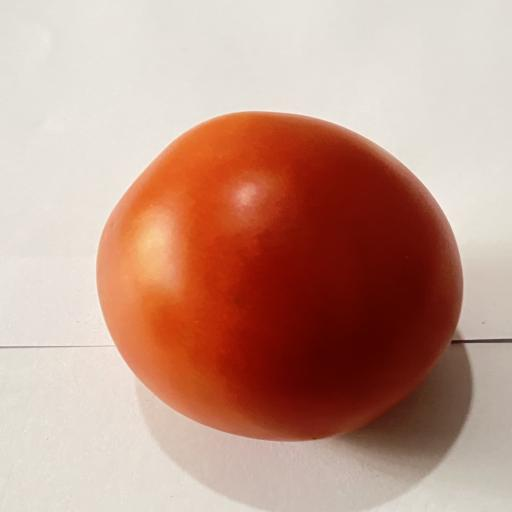ripe: (97, 112, 463, 441)
